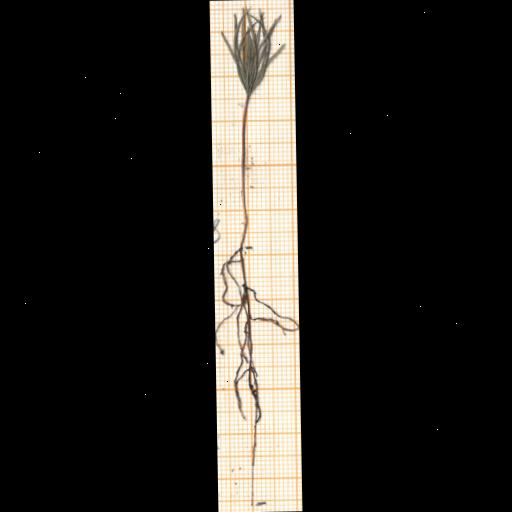flowerPinus: (221, 7, 281, 97)
rootPinus: (223, 247, 298, 502)
stemPinus: (239, 95, 250, 249)
